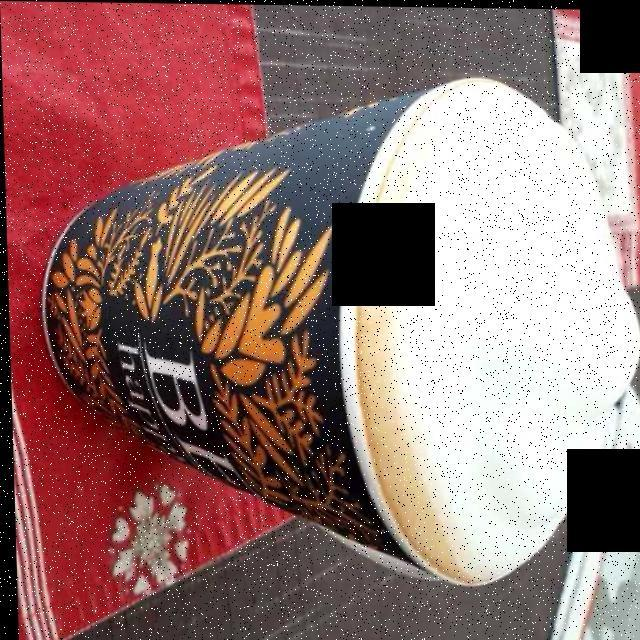cappuccino: (356, 86, 622, 559)
